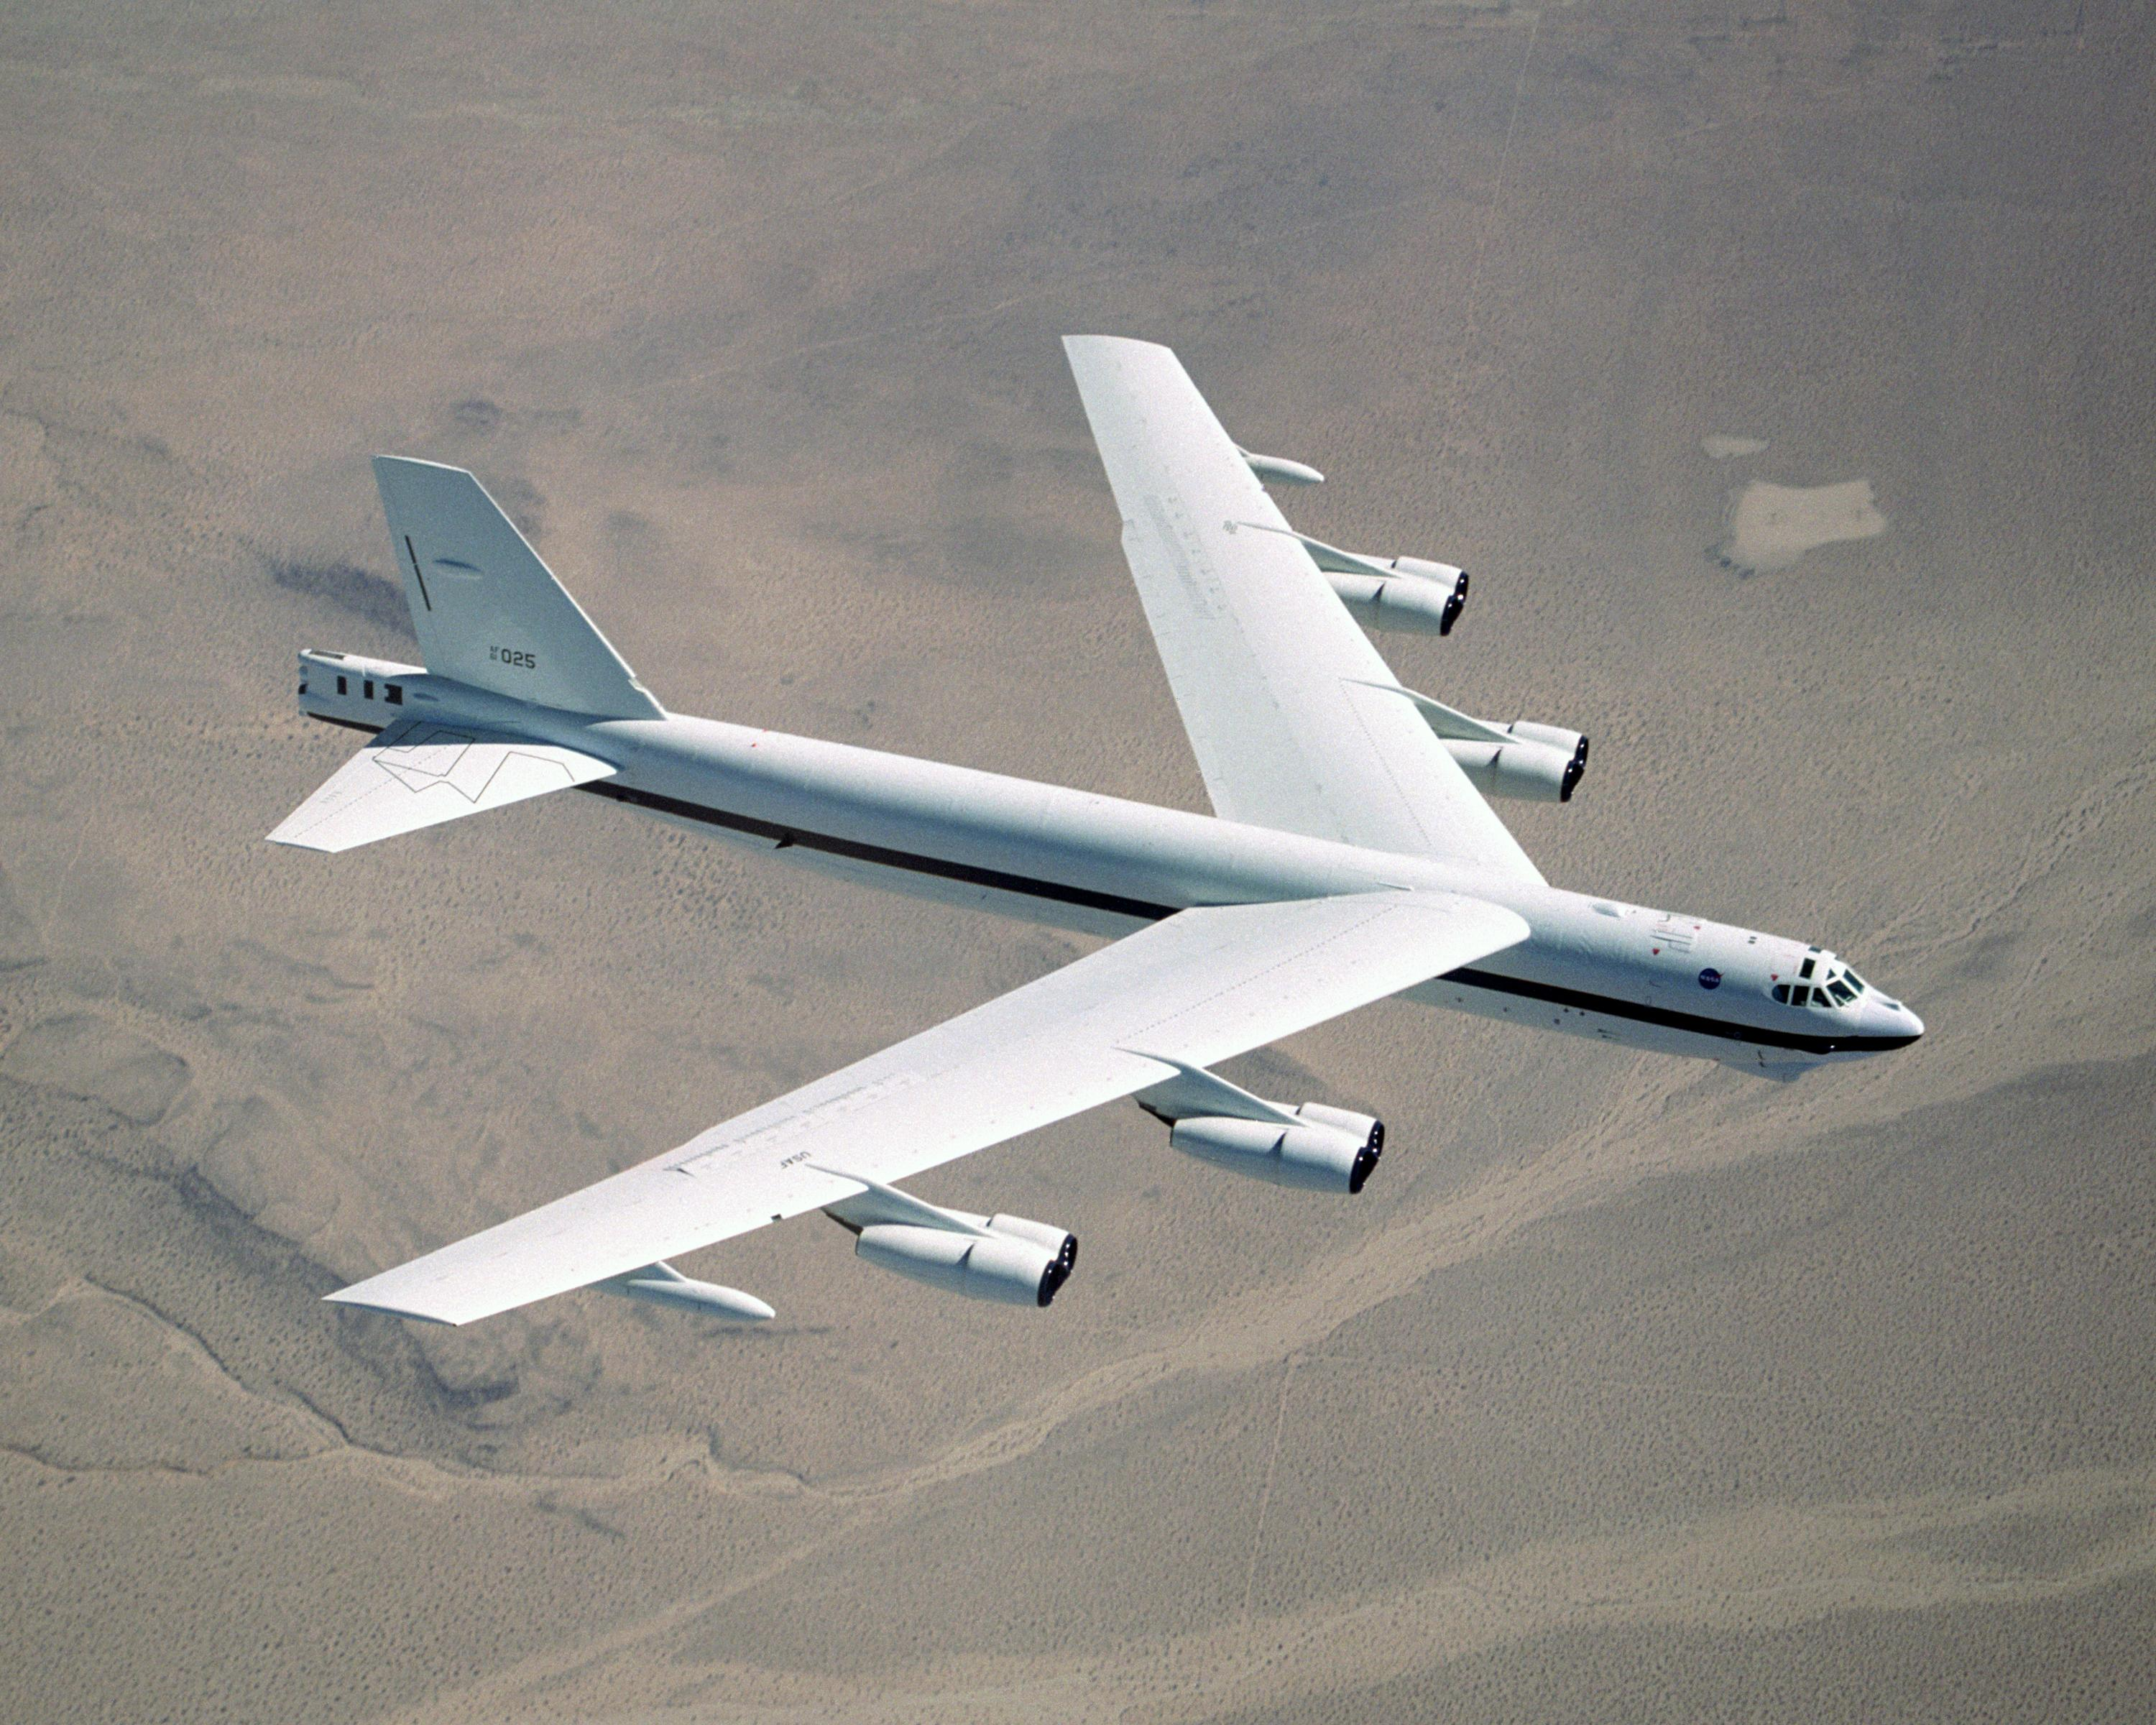B52: (262, 334, 1925, 1329)
